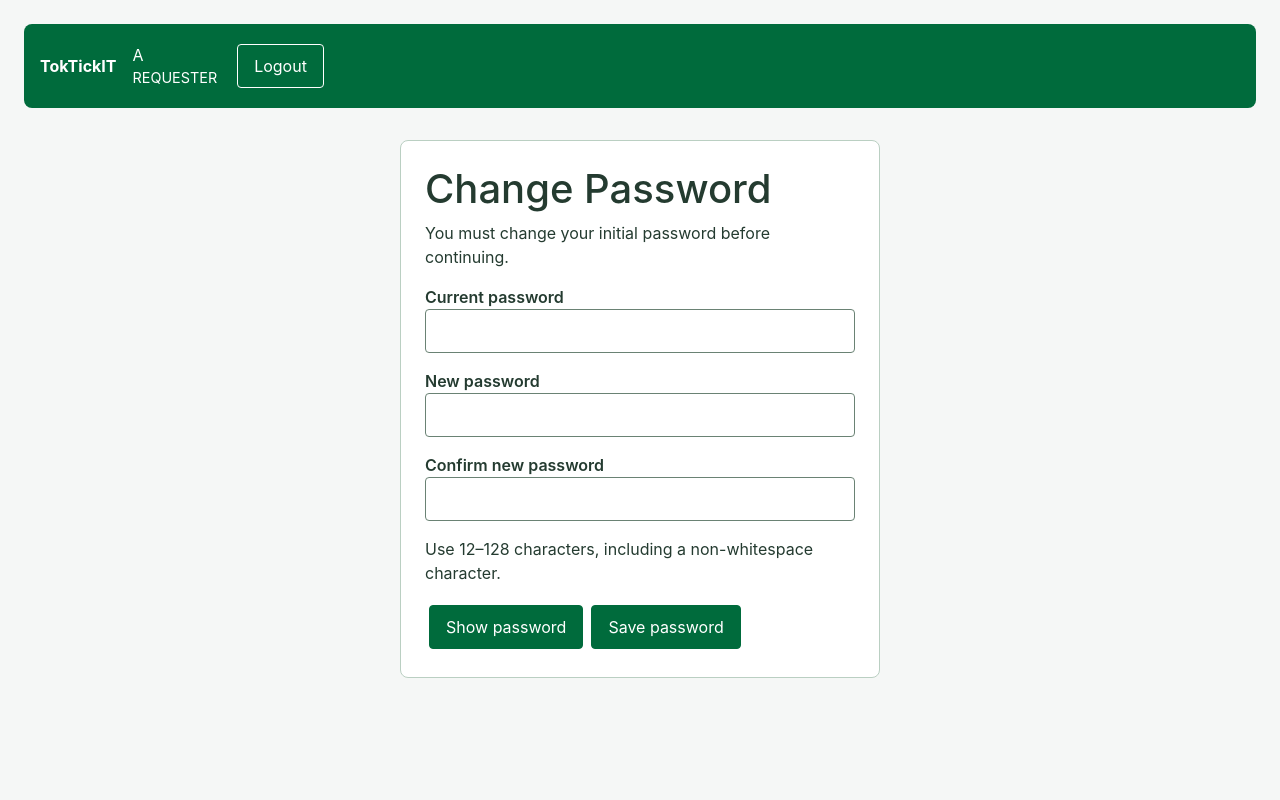
Scenario: UI-02 gates navigation and validates password confirmation before sending
Expected: the heading "Change Password" is shown, [425,164,772,213]
Type "old password" into the password field labelled "Current password" at point(640, 331), box [425,309,855,353]
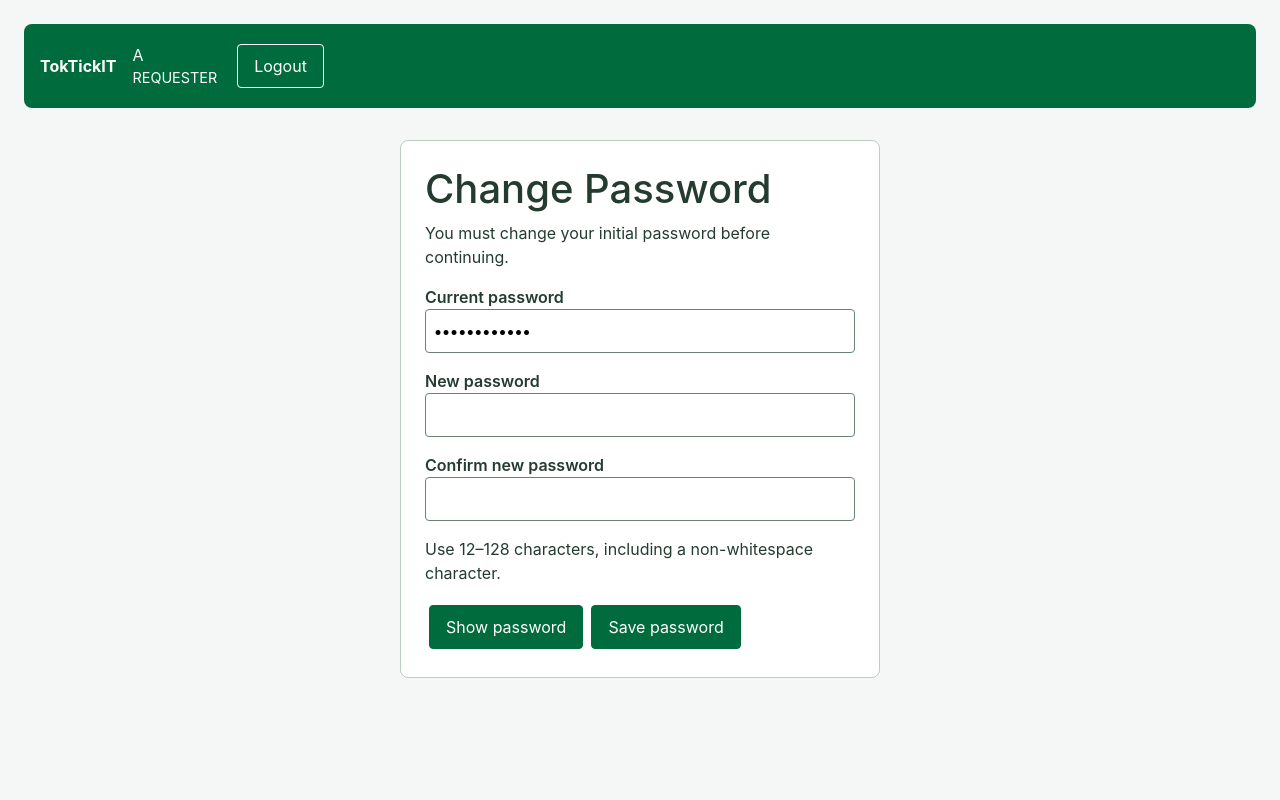
Type "new password long" into the password field labelled "New password" at point(640, 415), box [425,393,855,437]
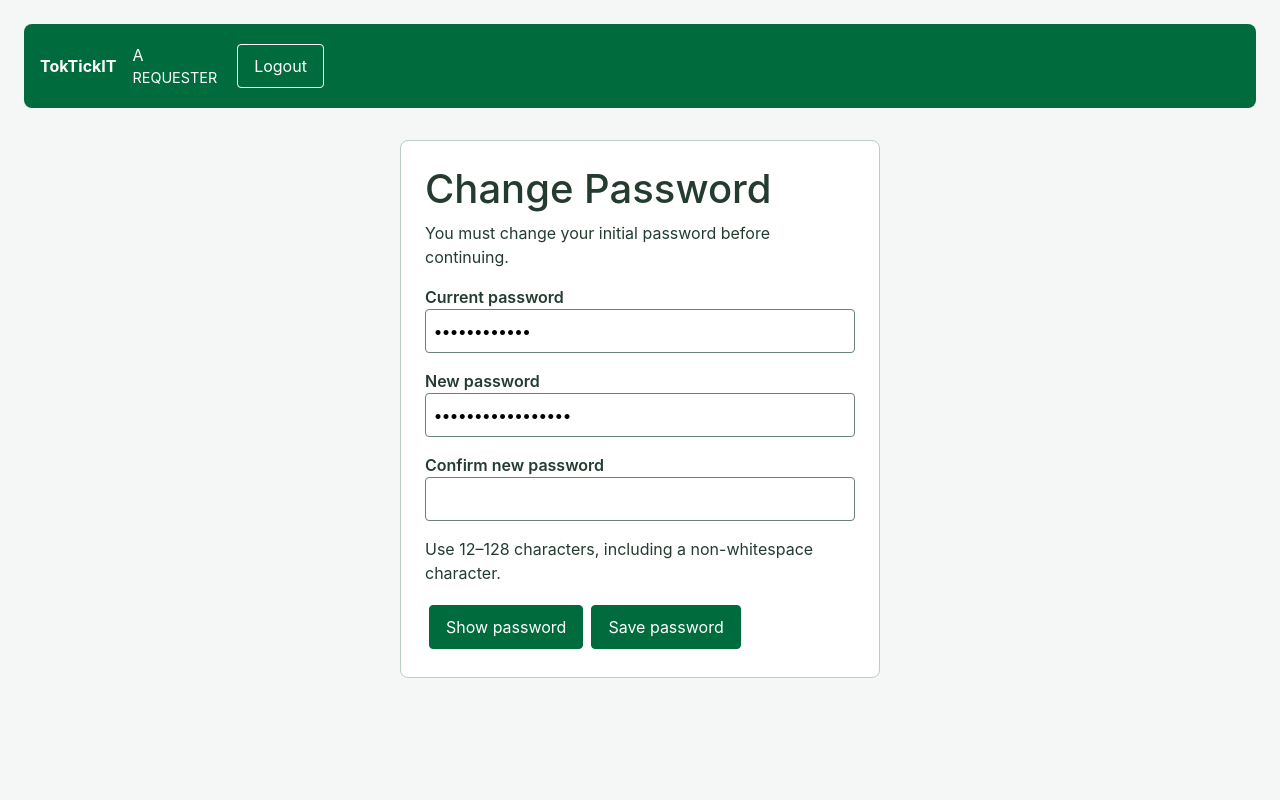
Type "different" into the password field labelled "Confirm new password" at point(640, 499), box [425,477,855,521]
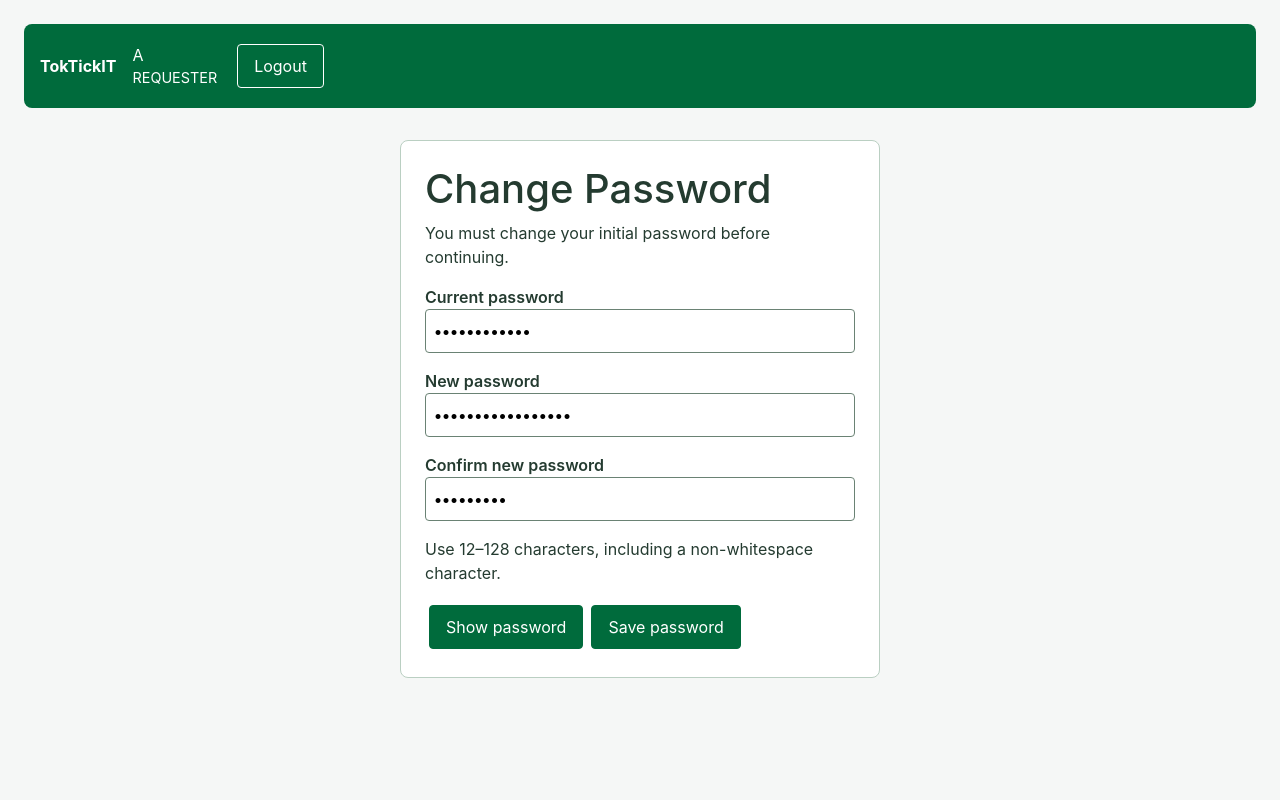
Click the button "Save password" at point(666, 627), box [591,605,741,649]
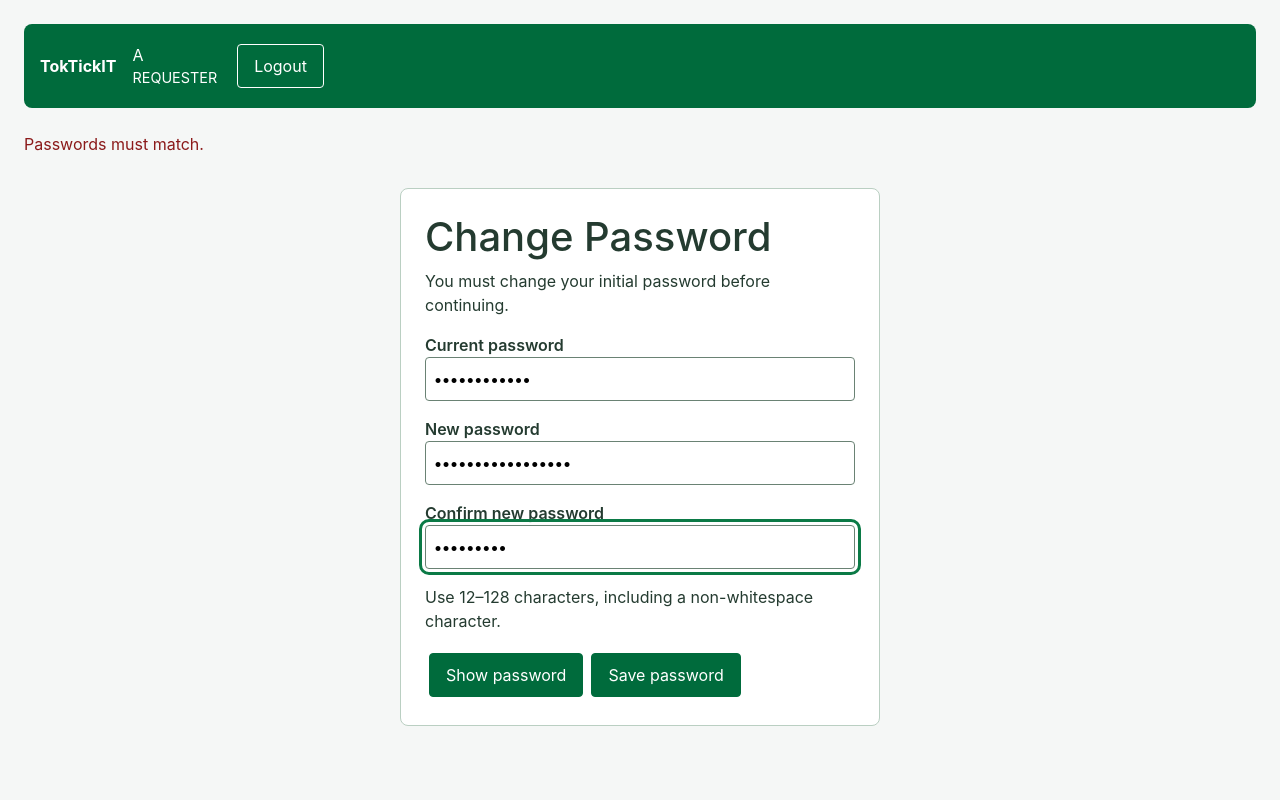
Expected: the text "Passwords must match." is shown, [24,134,204,154]
